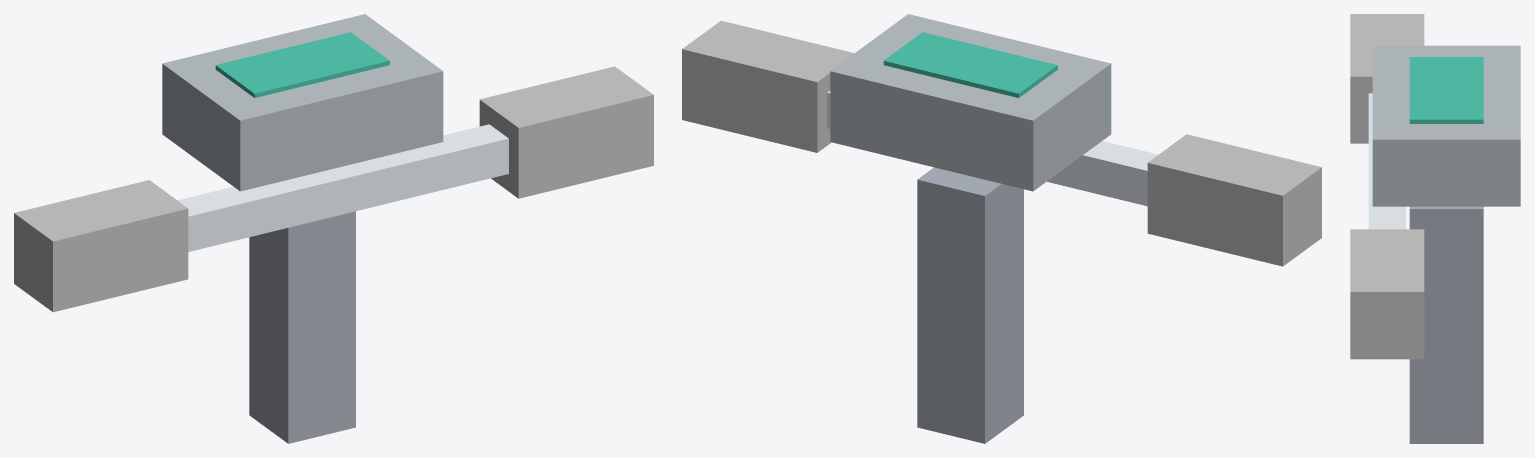
The model's file is bar_item.obj.
3 views of the same model, side by side, from view 1: azimuth 30°, elevation 25°; view 2: azimuth 150°, elevation 25°; view 3: azimuth 270°, elevation 25° (orthographic). The views are drawn at different scales.
Parts seen in each view (by area): view 1: bar_item; view 2: bar_item; view 3: bar_item.
Boxes of the visible parts, box(x1,y1,x2,y2) form: bar_item: box(14, 14, 653, 443); bar_item: box(682, 14, 1321, 443); bar_item: box(1350, 14, 1520, 443).
Size of the model in its own units: 1.11 by 0.6328 by 0.2875.
